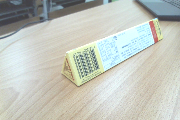Chocolate: (56, 17, 166, 89)
